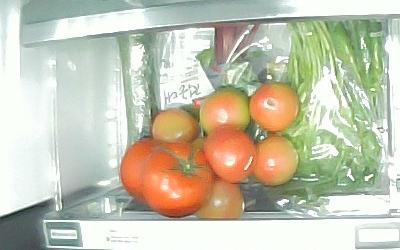tomato: (142, 144, 214, 217), (203, 124, 256, 183), (121, 137, 166, 204), (198, 85, 251, 135), (249, 83, 301, 132), (256, 134, 299, 187), (197, 178, 245, 220), (151, 106, 200, 144)
